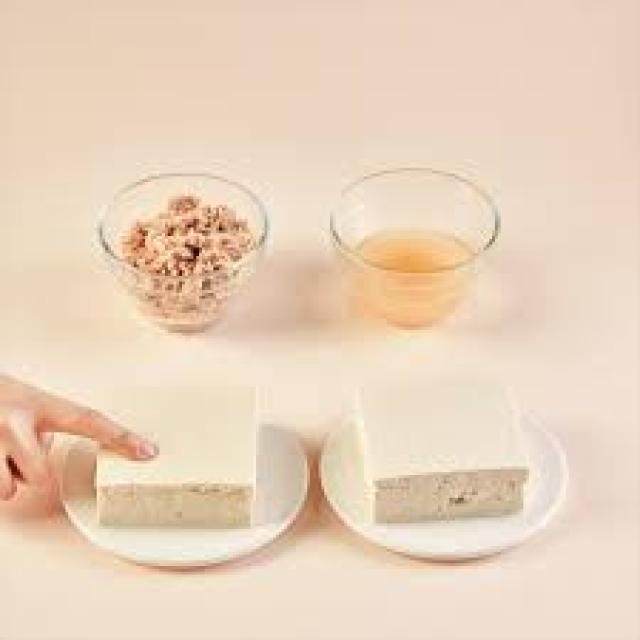tofu: (346, 362, 554, 526), (90, 361, 260, 539)
